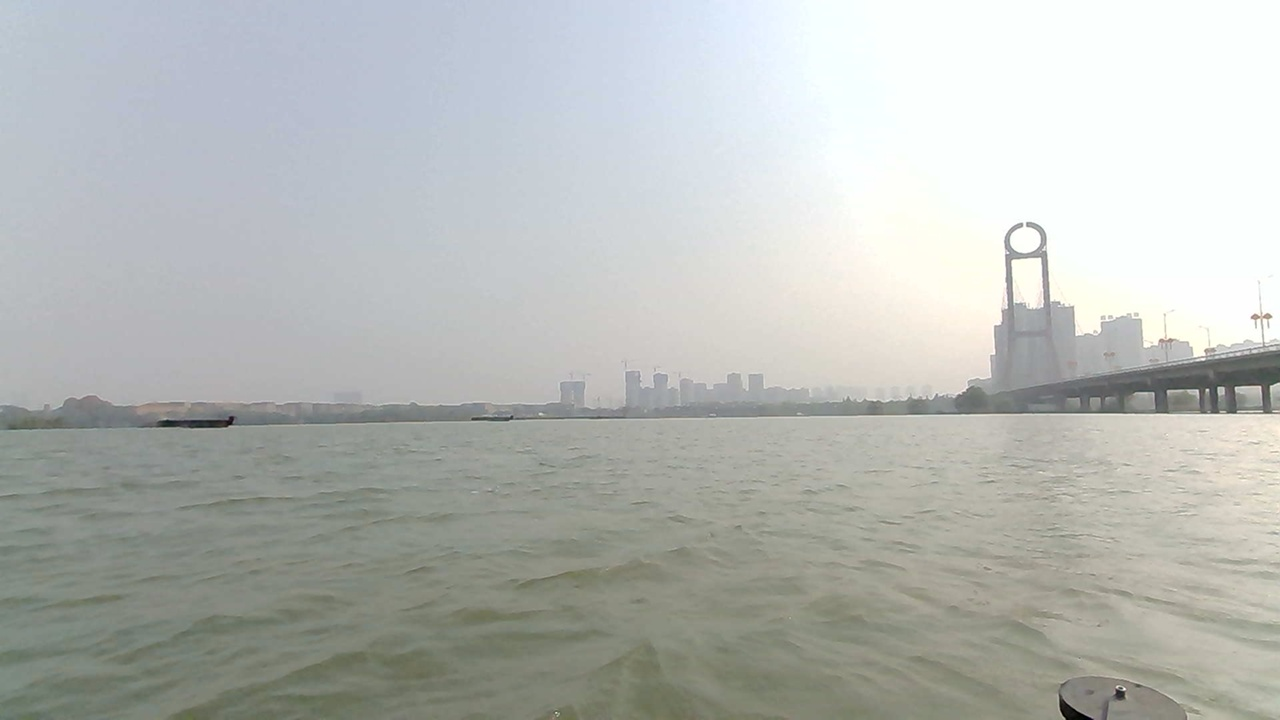bottle: (479, 480, 526, 505)
